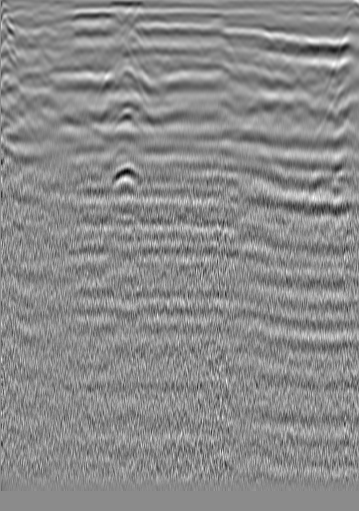가스: (104, 158, 148, 194)
상수: (38, 28, 58, 48)
오수: (312, 30, 332, 50)
우수: (172, 25, 192, 45)
